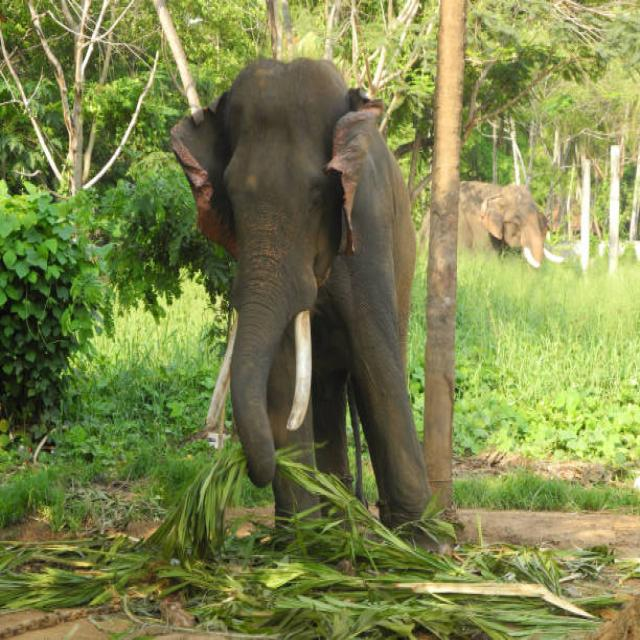Elephant: (170, 48, 476, 538)
